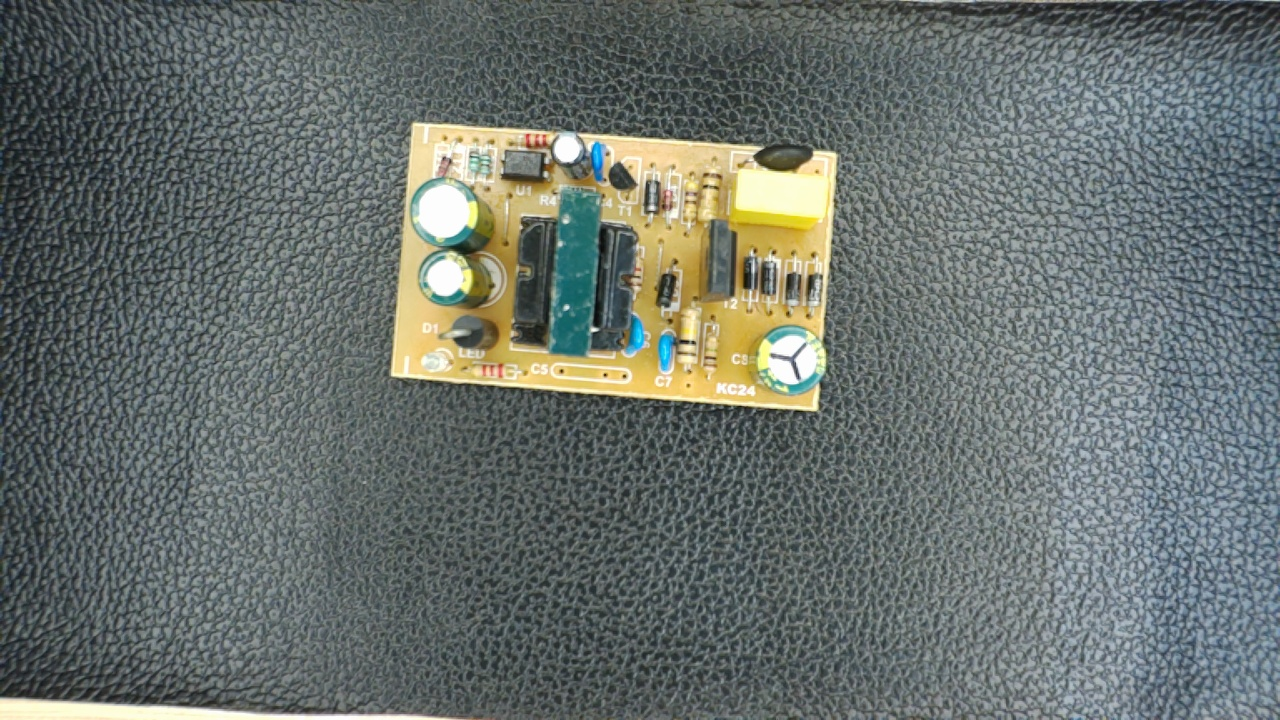fuse: (726, 140, 822, 177)
hv_capacitor: (744, 318, 831, 395)
optocoupler: (491, 141, 555, 183)
